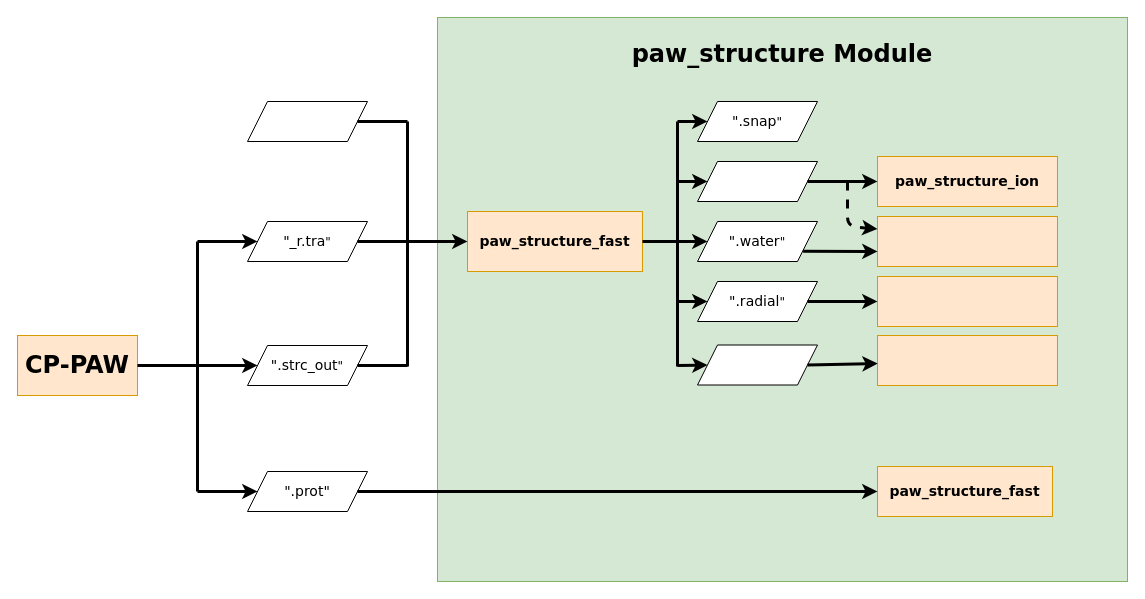
The diagram is 1145 pixels wide and 599 high, and some of its shapes have lost their labels. Each missing label, with the centre of its shape:
".hbonds_c ": point 757,364
".ion ": point 757,181
".scntl ": point 307,121
paw_structure_hbonds: point 967,360
paw_structure_radial: point 967,301
paw_structure_water: point 967,241
